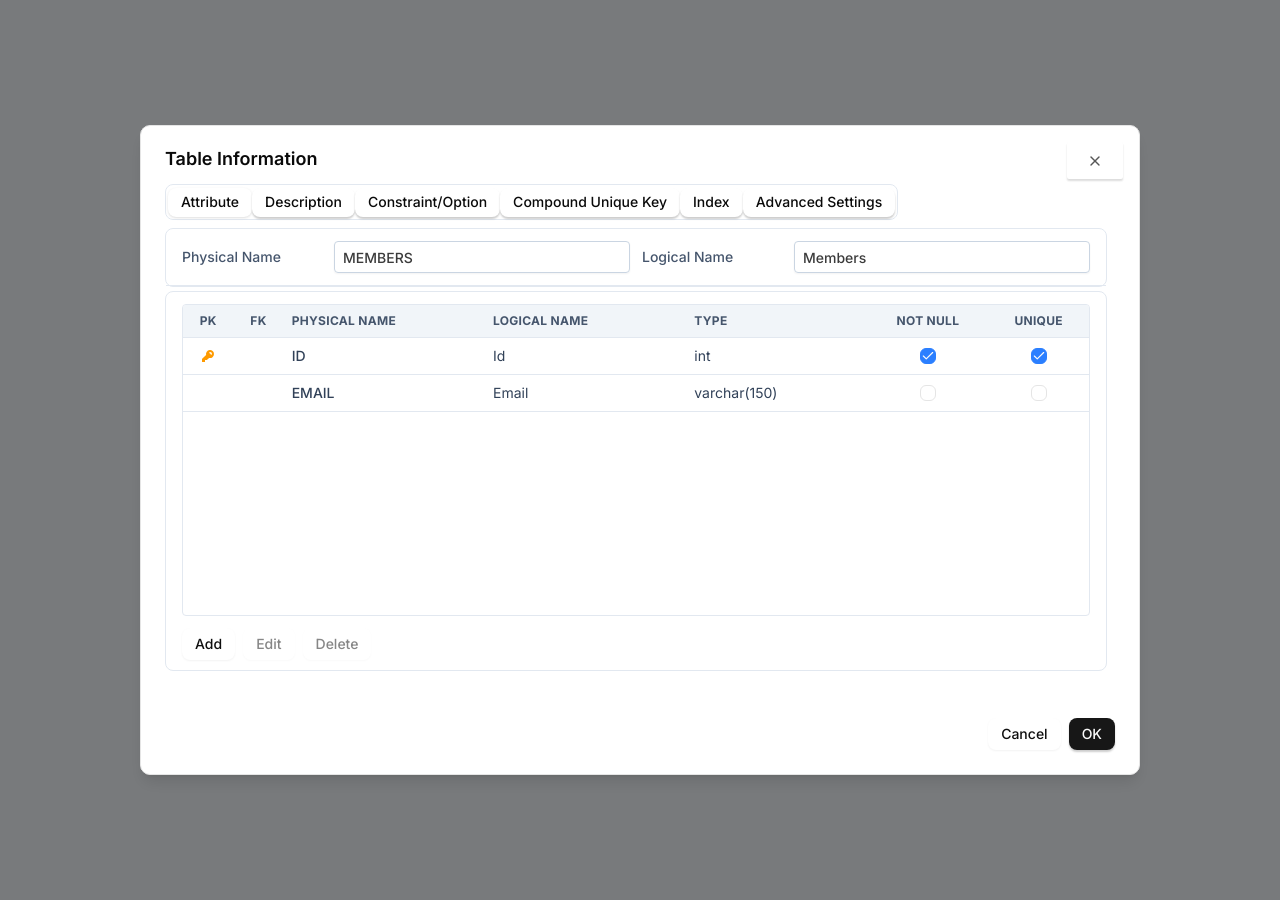
Scenario: when editing is allowed › returns to the list when back is clicked from the detail view
Double-click the row "EMAIL Email varchar(150)" at (313,392), box [183,374,1089,412]
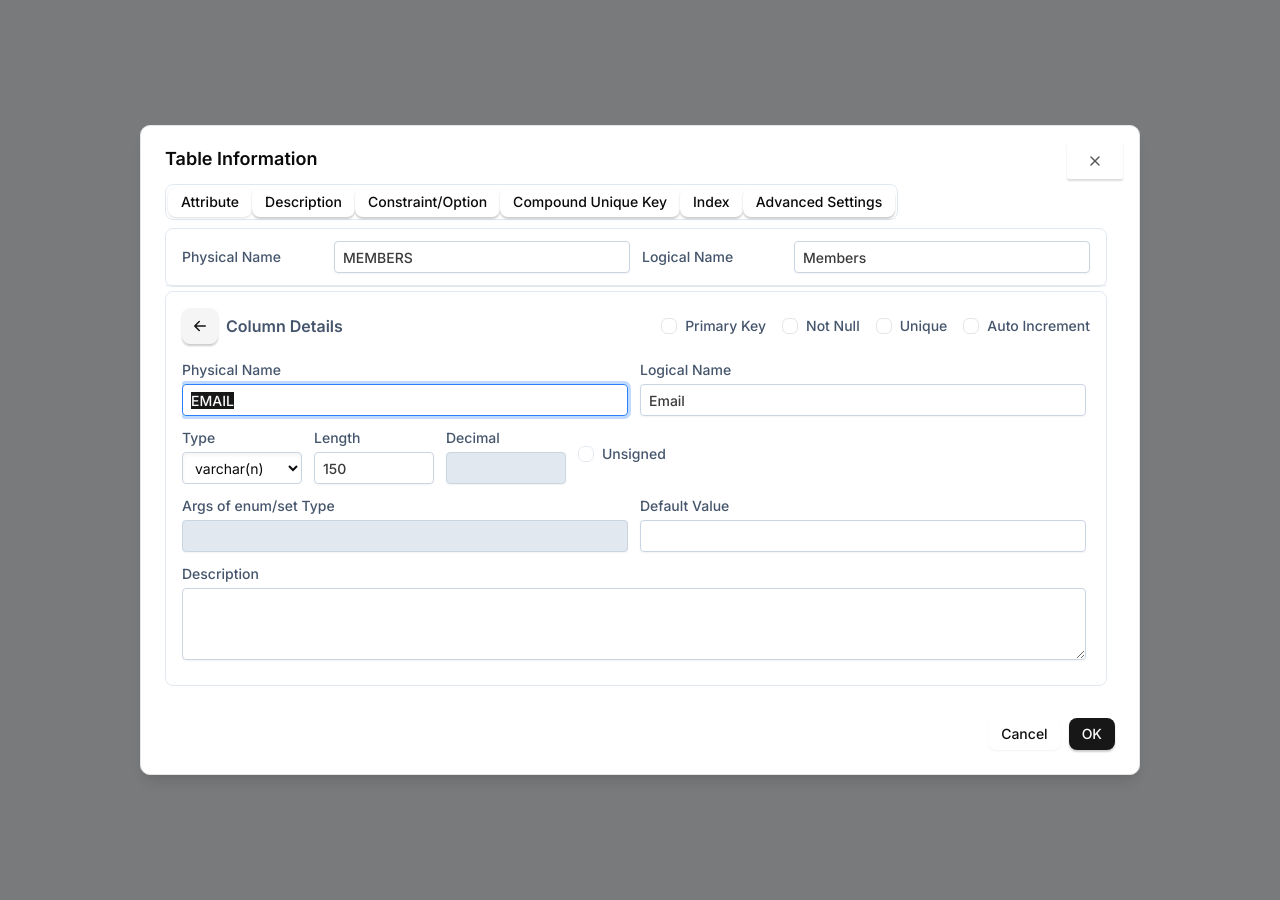
Click the button named "Back to Columns" at (200,326), box [182,308,218,344]
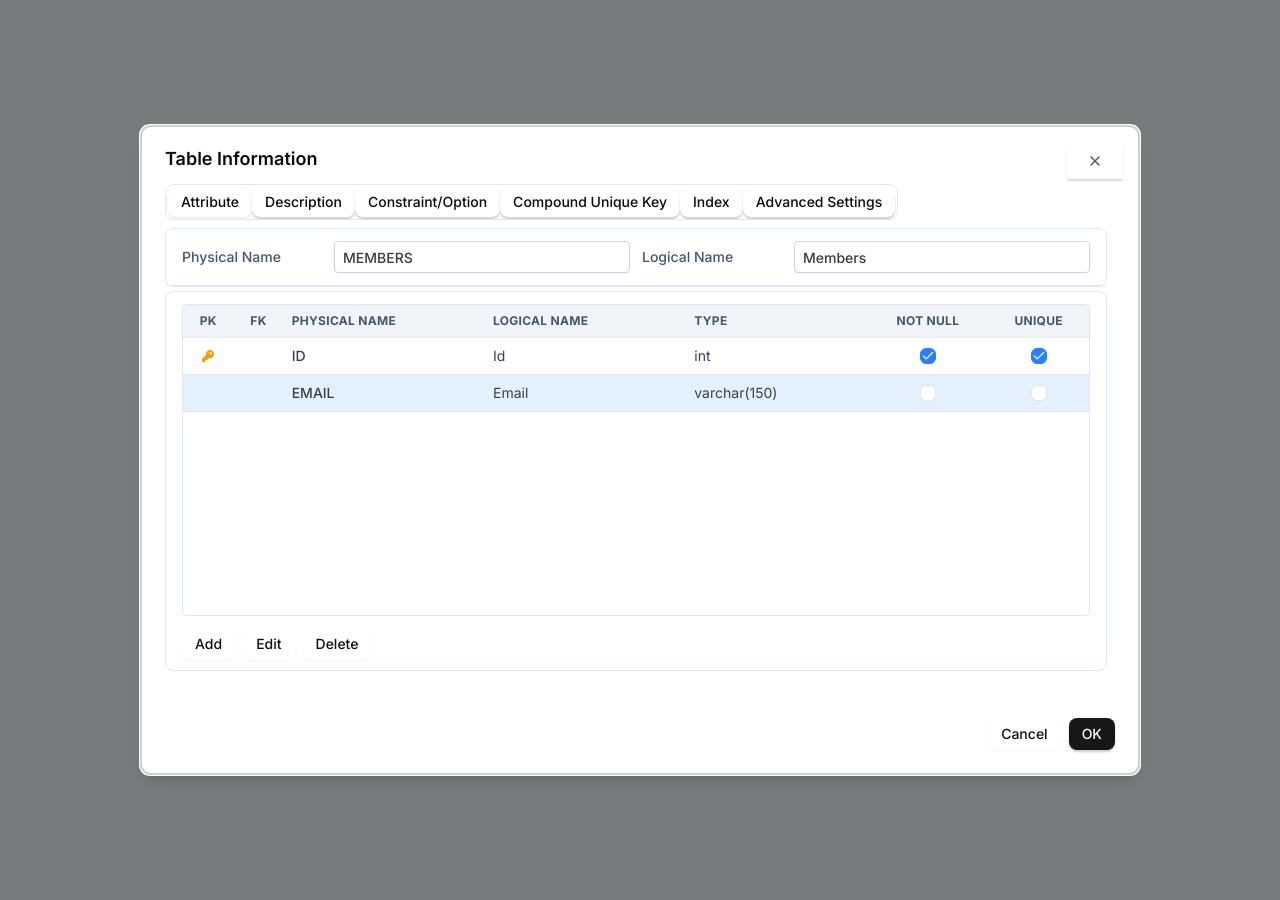
Now the heading "Column Details" is gone
